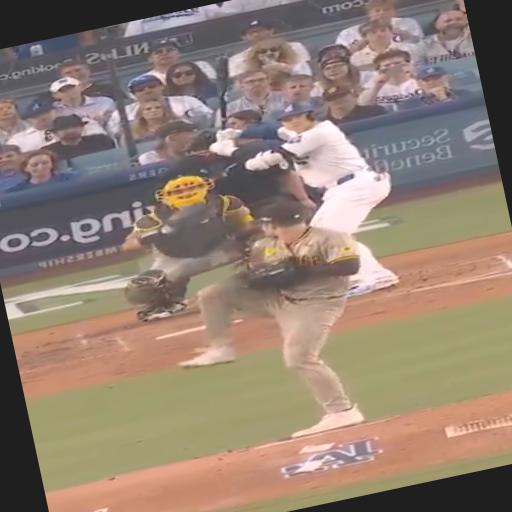bat: (215, 55, 229, 128)
